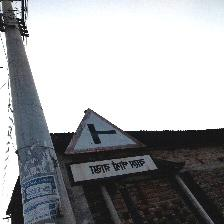Side-road-left: (62, 108, 163, 187)
